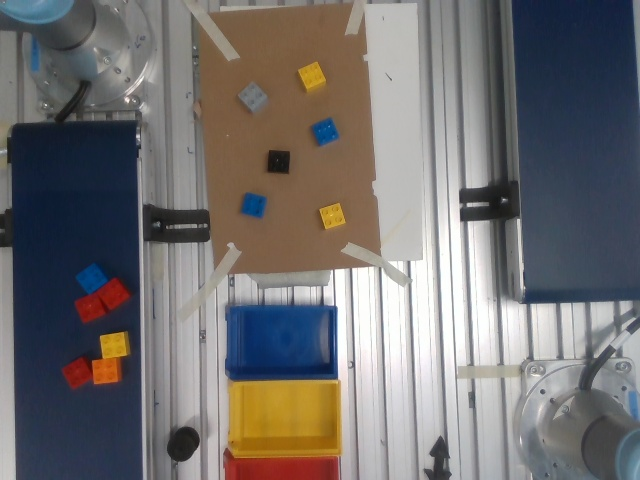duplo_4_blue: (308, 115, 341, 148), (237, 191, 269, 221)
duplo_4_yellow: (294, 61, 329, 93), (317, 201, 347, 231)
ignore: (234, 81, 271, 115), (265, 147, 295, 175)
